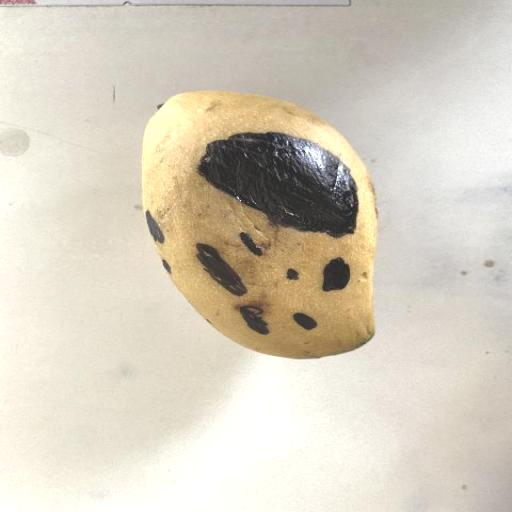mango-overripe: (107, 53, 397, 376)
